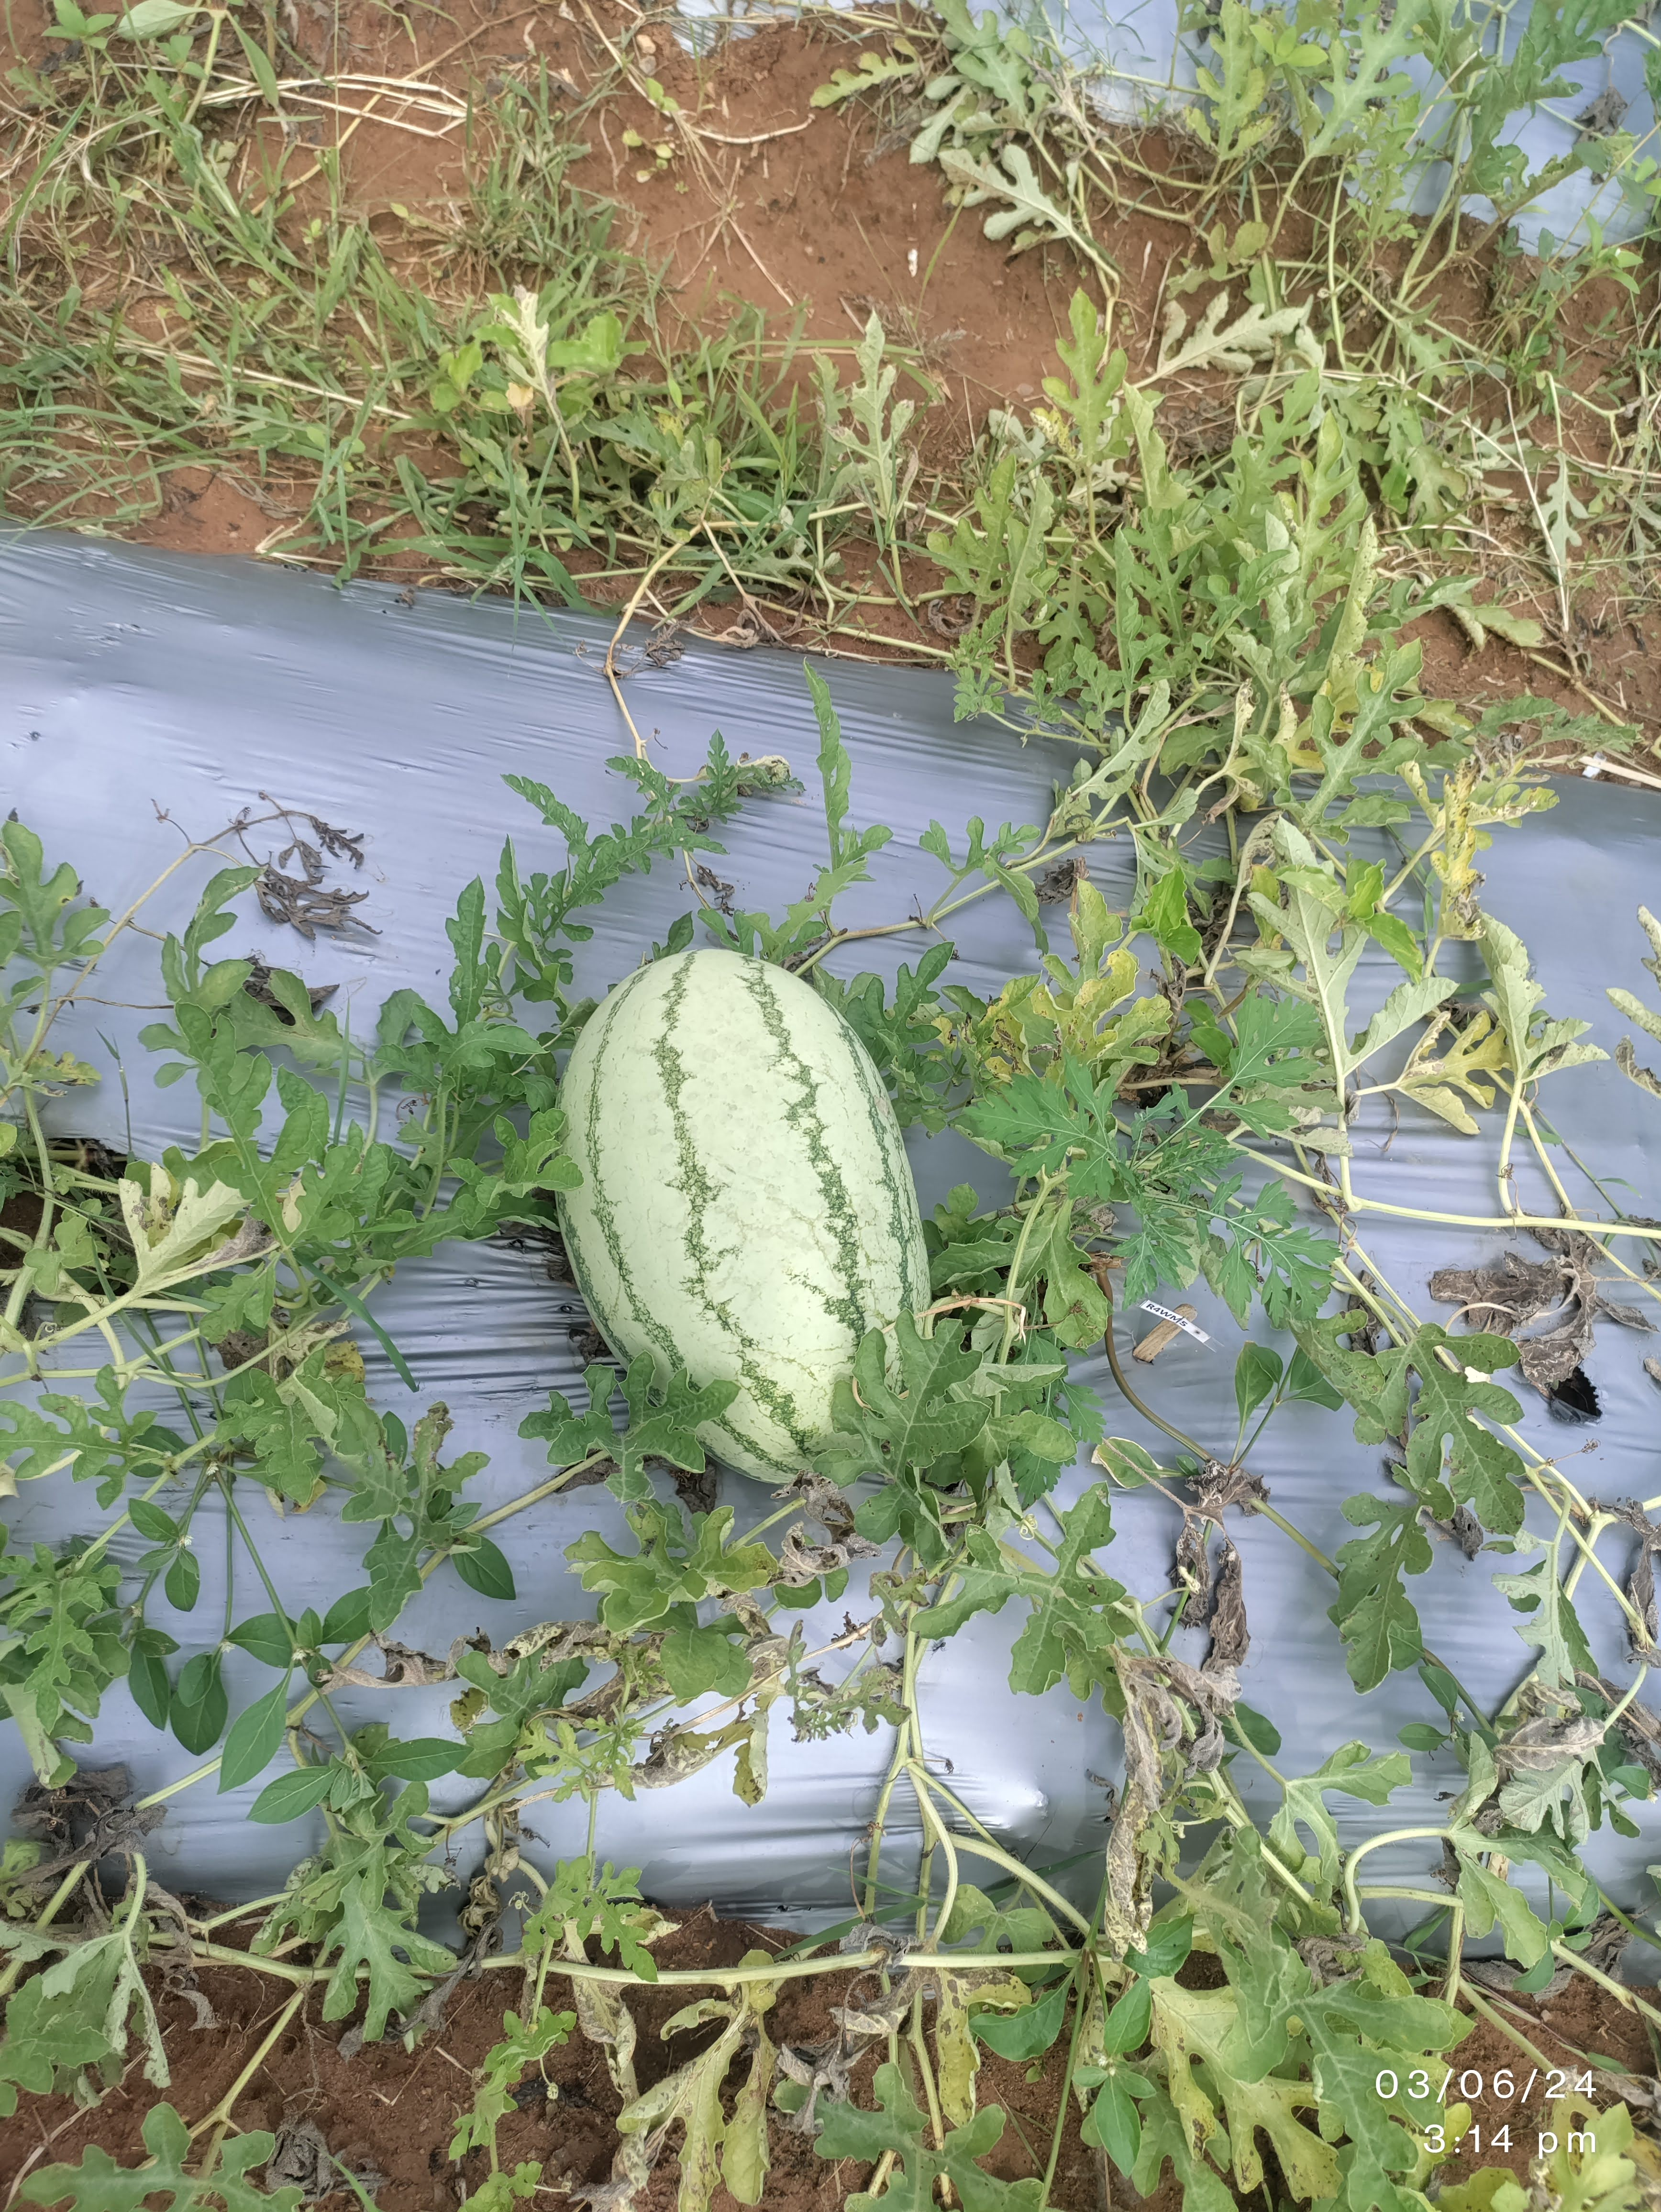good-to-harvest: (500, 851, 1130, 1502)
